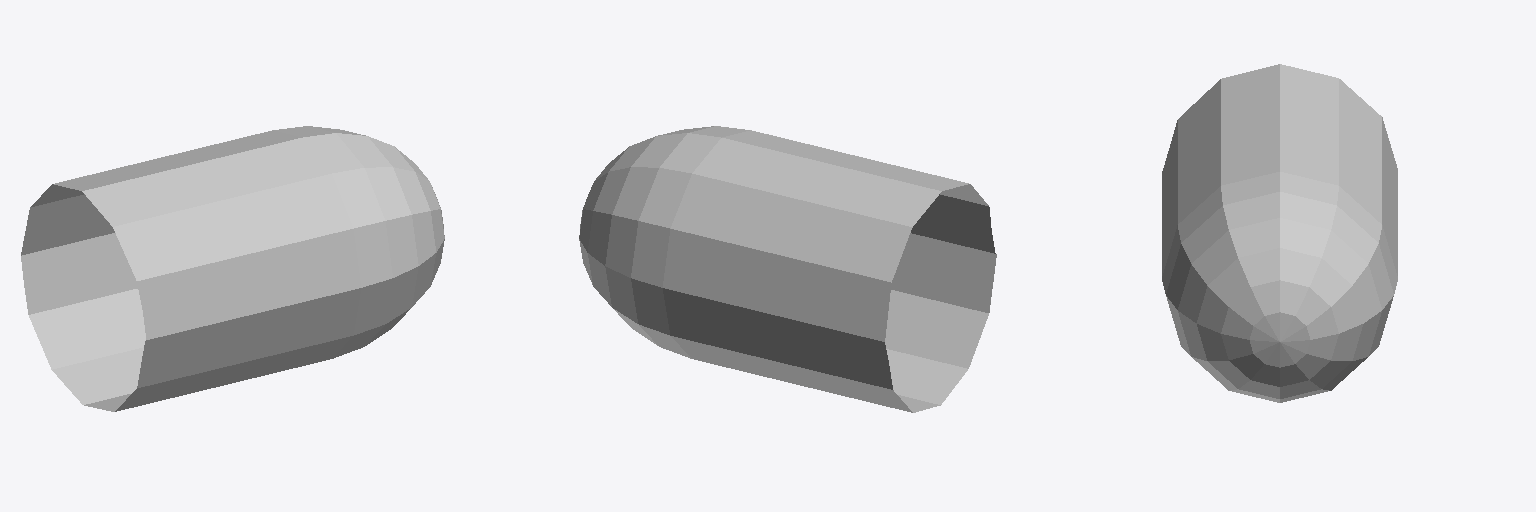
File: rightbicep.obj
The picture shows the model from 3 angles: view 1: azimuth 30°, elevation 25°; view 2: azimuth 150°, elevation 25°; view 3: azimuth 270°, elevation 25°; orthographic projection.
Parts seen in each view (by area): view 1: polySurface14 polySurface11 AndroidRobot:Mesh; view 2: polySurface14 polySurface11 AndroidRobot:Mesh; view 3: polySurface14 polySurface11 AndroidRobot:Mesh.
Part boxes in pixels (left/top/right/bottom): polySurface14 polySurface11 AndroidRobot:Mesh: left=21, top=126, right=444, bottom=411; polySurface14 polySurface11 AndroidRobot:Mesh: left=579, top=126, right=996, bottom=412; polySurface14 polySurface11 AndroidRobot:Mesh: left=1162, top=64, right=1397, bottom=402.
Size of the model in its own units: 1.09 by 0.6294 by 0.6294.